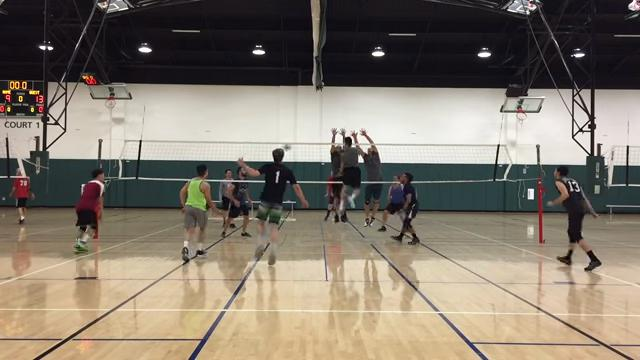attacco: (331, 132, 366, 215)
muro: (356, 125, 387, 229), (324, 124, 345, 224)
